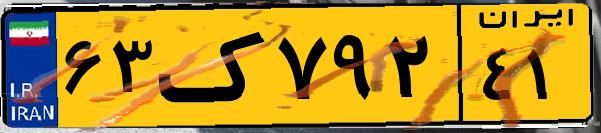1: (525, 38, 570, 115)
2: (385, 28, 445, 110)
3: (110, 28, 158, 98)
4: (475, 38, 525, 113)
6: (57, 26, 110, 100)
7: (270, 28, 330, 110)
9: (330, 28, 385, 110)
ک: (158, 12, 270, 120)
